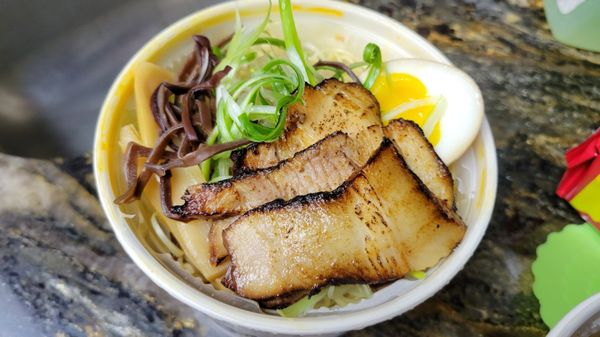sushi: (92, 0, 509, 331)
